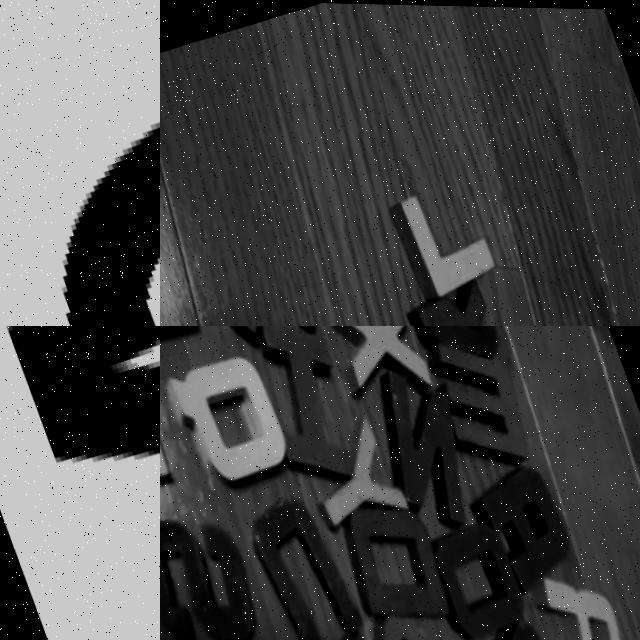A: (480, 463, 572, 575)
D: (327, 491, 451, 630)
G: (401, 326, 505, 361)
I: (238, 326, 369, 498)
K: (399, 269, 513, 326)
L: (382, 169, 499, 305)
M: (428, 338, 536, 465)
N: (362, 366, 476, 524)
O: (54, 113, 160, 326), (422, 520, 528, 640)
P: (357, 599, 479, 640)
Q: (160, 338, 293, 489)
R: (527, 568, 632, 640)
S: (160, 486, 263, 640)
U: (234, 484, 361, 640)
V: (0, 326, 160, 592)
X: (319, 326, 436, 401)
Y: (295, 423, 414, 537)
